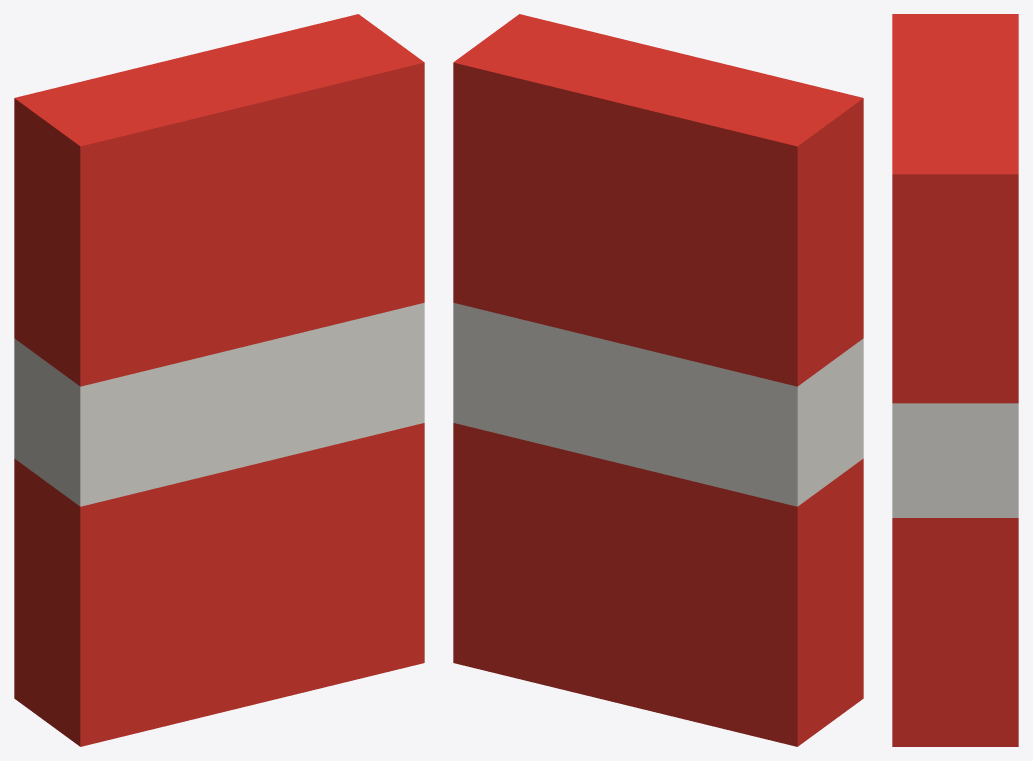
Rendered from cm_cloth_0.glb.
3 views of the same model, side by side, from view 1: azimuth 30°, elevation 25°; view 2: azimuth 150°, elevation 25°; view 3: azimuth 270°, elevation 25° (orthographic). The views are drawn at different scales.
Visible parts, largest first — view 1: cm_cloth_0_body; view 2: cm_cloth_0_body; view 3: cm_cloth_0_body.
Boxes of the visible parts, x1=… form: cm_cloth_0_body: x1=14, y1=14, x2=424, y2=746; cm_cloth_0_body: x1=453, y1=14, x2=863, y2=746; cm_cloth_0_body: x1=892, y1=14, x2=1018, y2=746.
Size of the model in its own units: 0.1875 by 0.3125 by 0.0625.
Materials: 1 (1 with a texture image).
